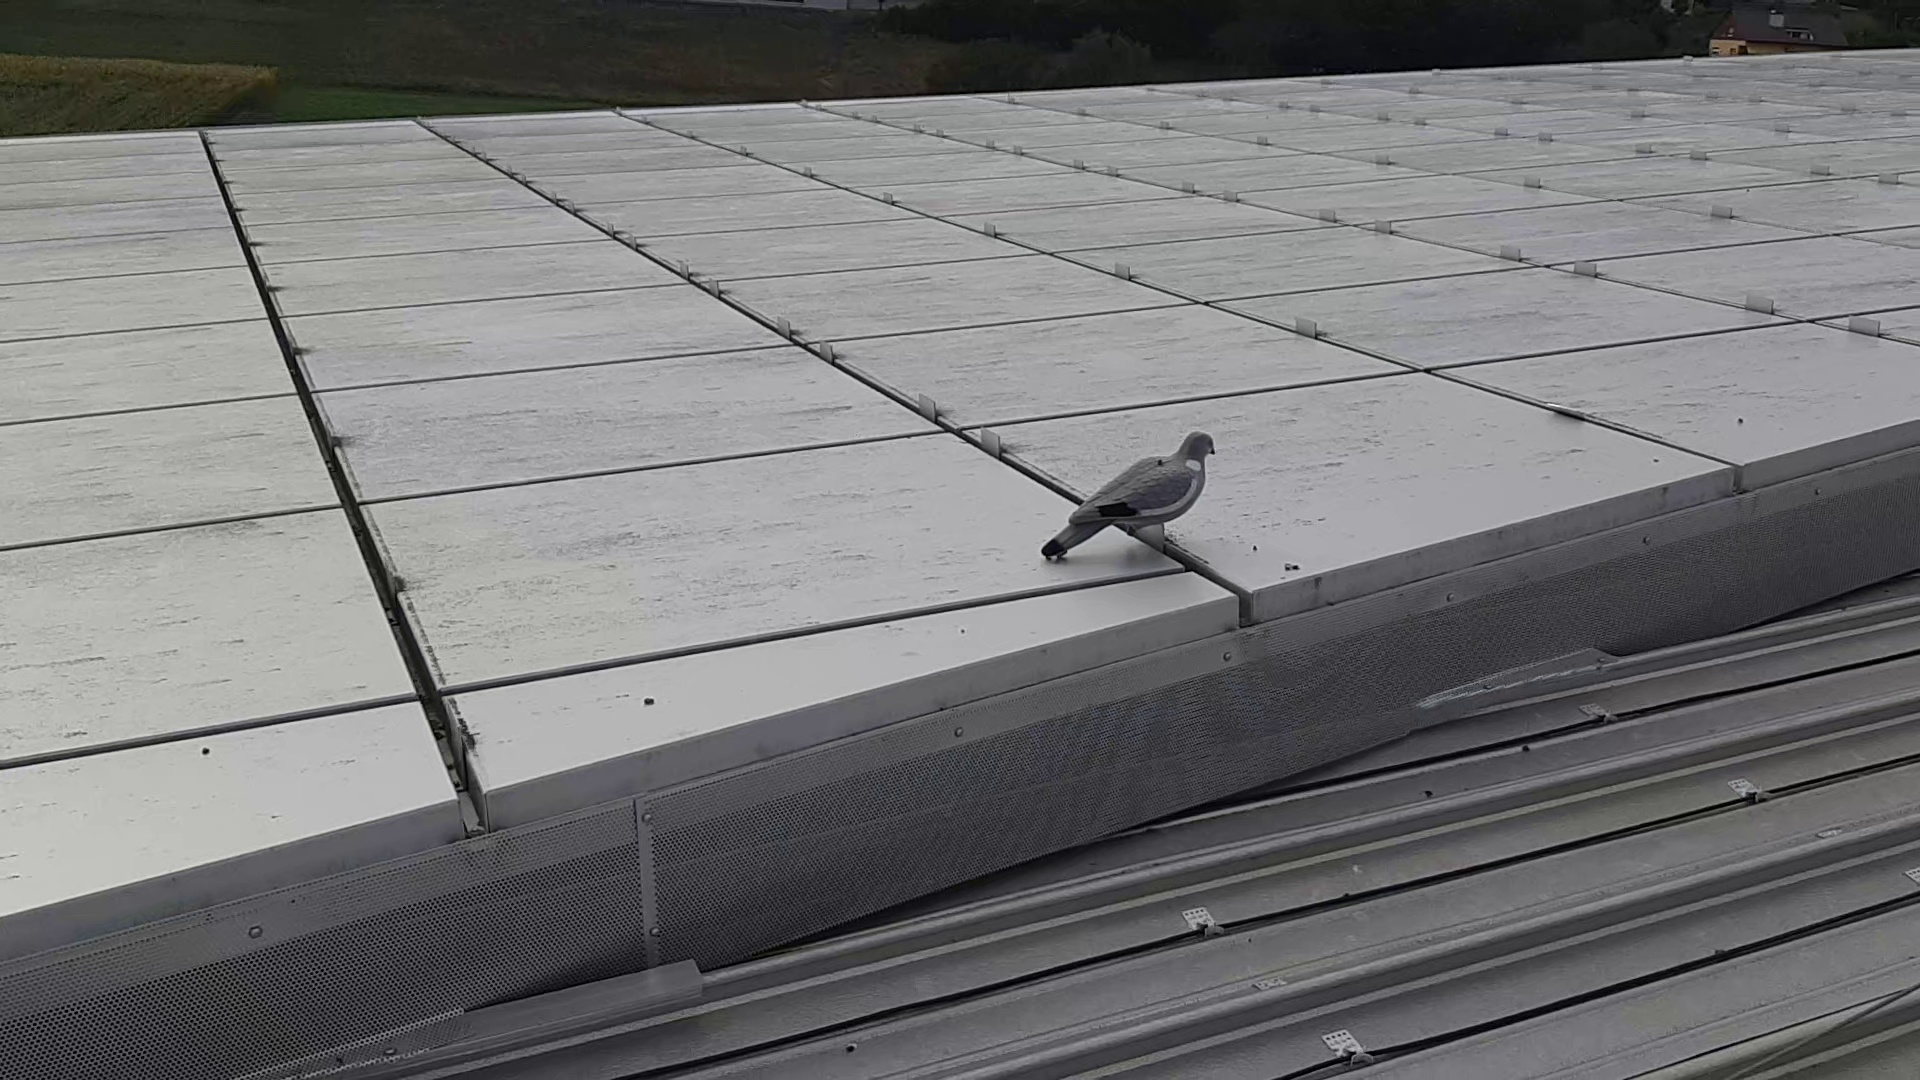Pigeon: (1039, 425, 1226, 576)
